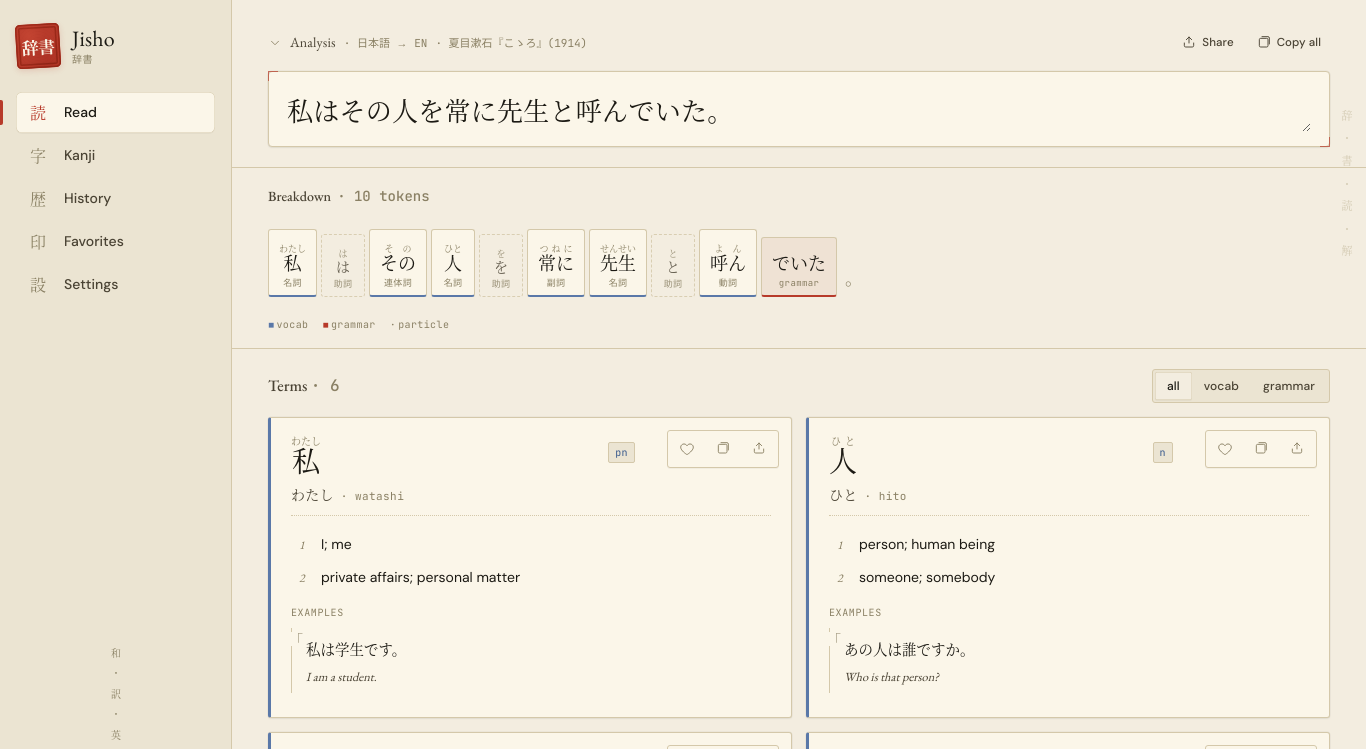
Read screen › Share copies a ?q= URL of the current text
This screenshot has width=1366, height=749.
Click the button with aria-label "share query": (1208, 43) [1172,28,1243,57]
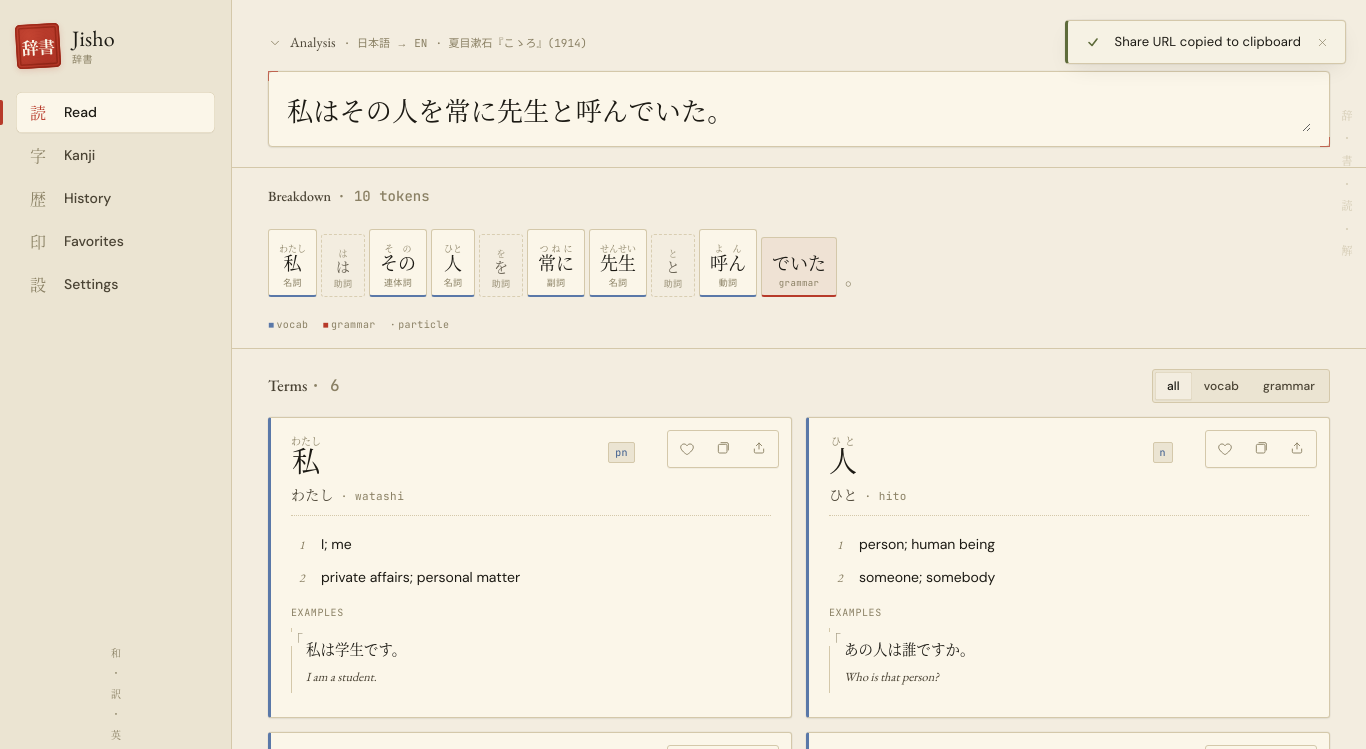
Now the button "Link copied" is shown, box [1170,34,1234,51]
